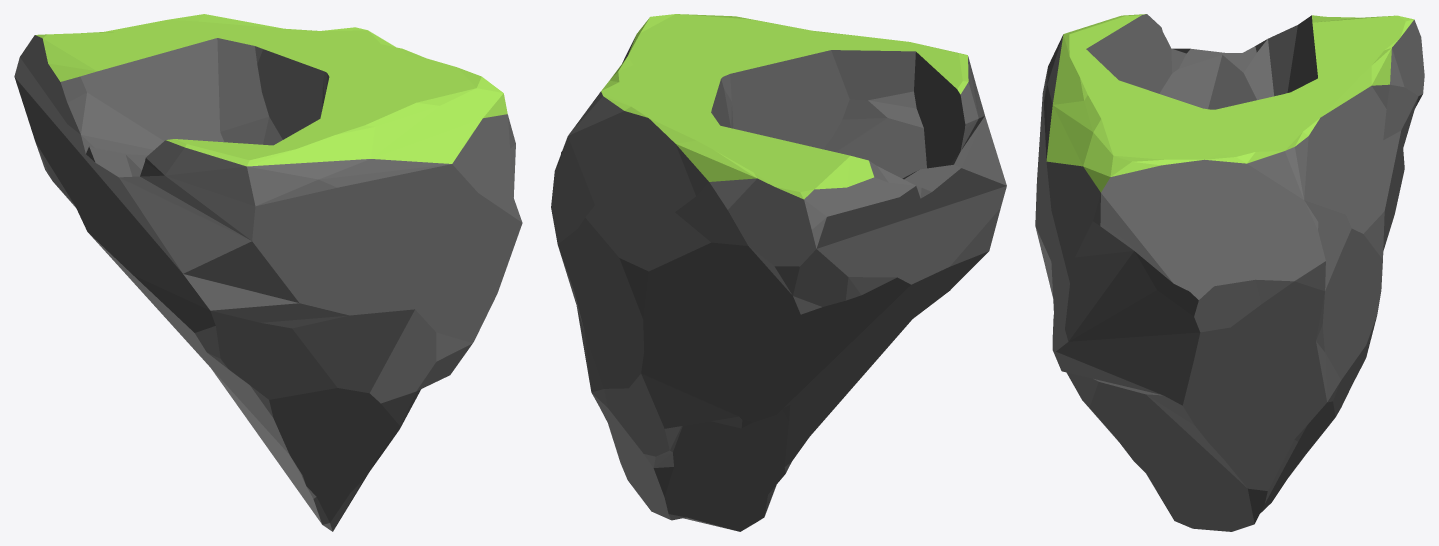
The model's file is floating_stone 6.fbx.
The picture shows the model from 3 angles, left to right: view 1: azimuth 30°, elevation 25°; view 2: azimuth 150°, elevation 25°; view 3: azimuth 270°, elevation 25°; orthographic projection. The views are drawn at different scales.
Visible parts, largest first — view 1: Cube.008; view 2: Cube.008; view 3: Cube.008.
Boxes of the visible parts, bbox=[...] form: Cube.008: bbox=[14, 14, 522, 531]; Cube.008: bbox=[551, 14, 1006, 531]; Cube.008: bbox=[1035, 14, 1424, 531].
Bounding box in the file's own units: 2100 × 2394 × 1959.
